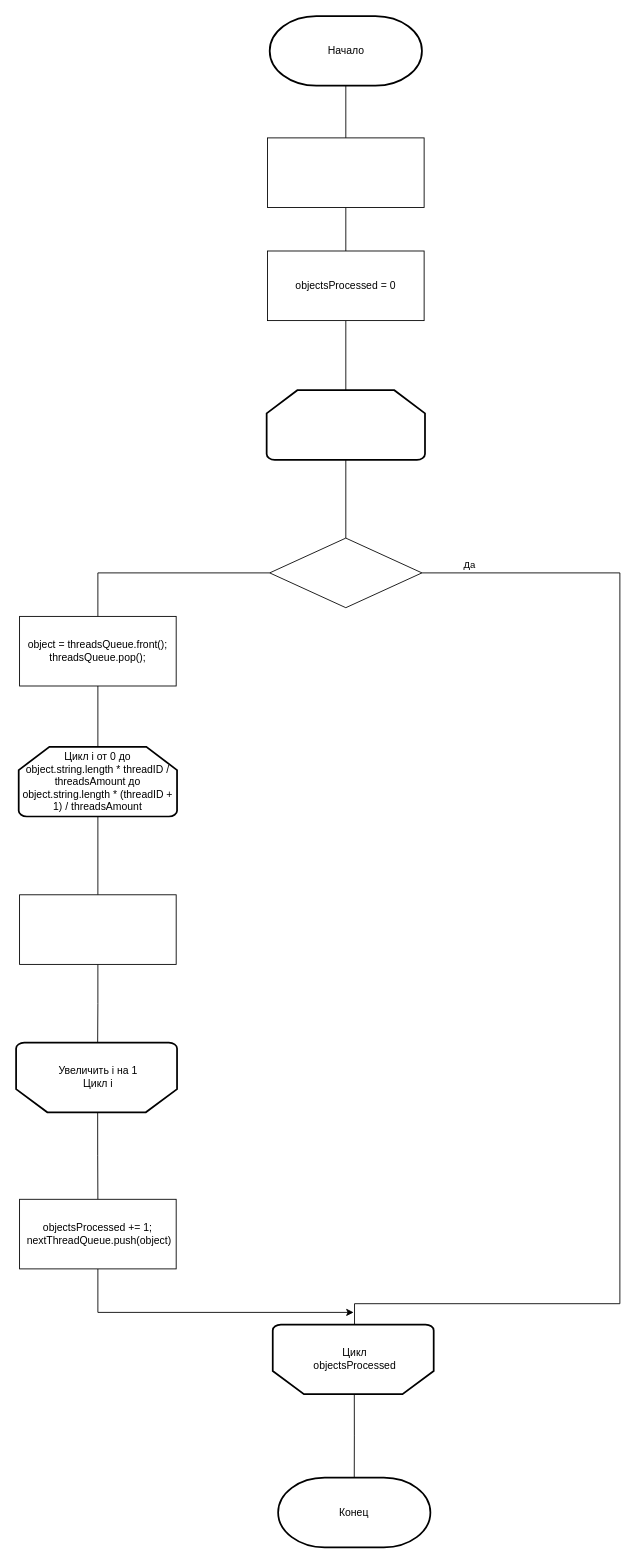
Image size: 636x1563. Some labels were removed from this diagram. The shapes that lost their labels are listed below. From the top down, each one's box as (x1, y1, x2, y2) in pixels, then its label:
(267, 137, 424, 207): size: threadID, threadsAmount, N, Queue<Objects>: threadsQueue, nextThreadQueue
(265, 389, 425, 460): Пока objectsProcessed < N
(269, 537, 422, 608): threadsQueue.isEmpty()
(19, 894, 176, 964): object.result[object.string[i]] += 1
